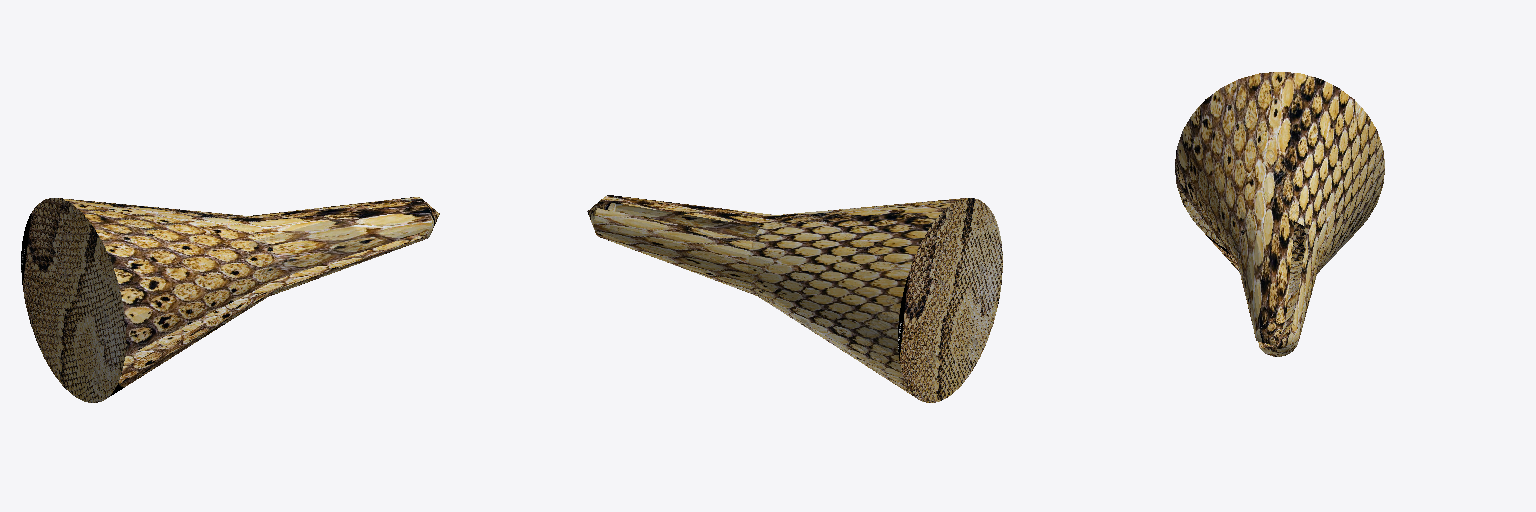
The picture shows the model from 3 angles: view 1: azimuth 30°, elevation 25°; view 2: azimuth 150°, elevation 25°; view 3: azimuth 270°, elevation 25°; orthographic projection.
Parts seen in each view (by area): view 1: snake_back_snake_back_snake_back_Cylinder.003; view 2: snake_back_snake_back_snake_back_Cylinder.003; view 3: snake_back_snake_back_snake_back_Cylinder.003.
Boxes of the visible parts, x1=… form: snake_back_snake_back_snake_back_Cylinder.003: x1=21, y1=197, x2=439, y2=402; snake_back_snake_back_snake_back_Cylinder.003: x1=587, y1=195, x2=1002, y2=402; snake_back_snake_back_snake_back_Cylinder.003: x1=1175, y1=72, x2=1384, y2=356.
Size of the model in its own units: 1 by 0.5 by 0.5.
Materials: 1 (1 with a texture image).